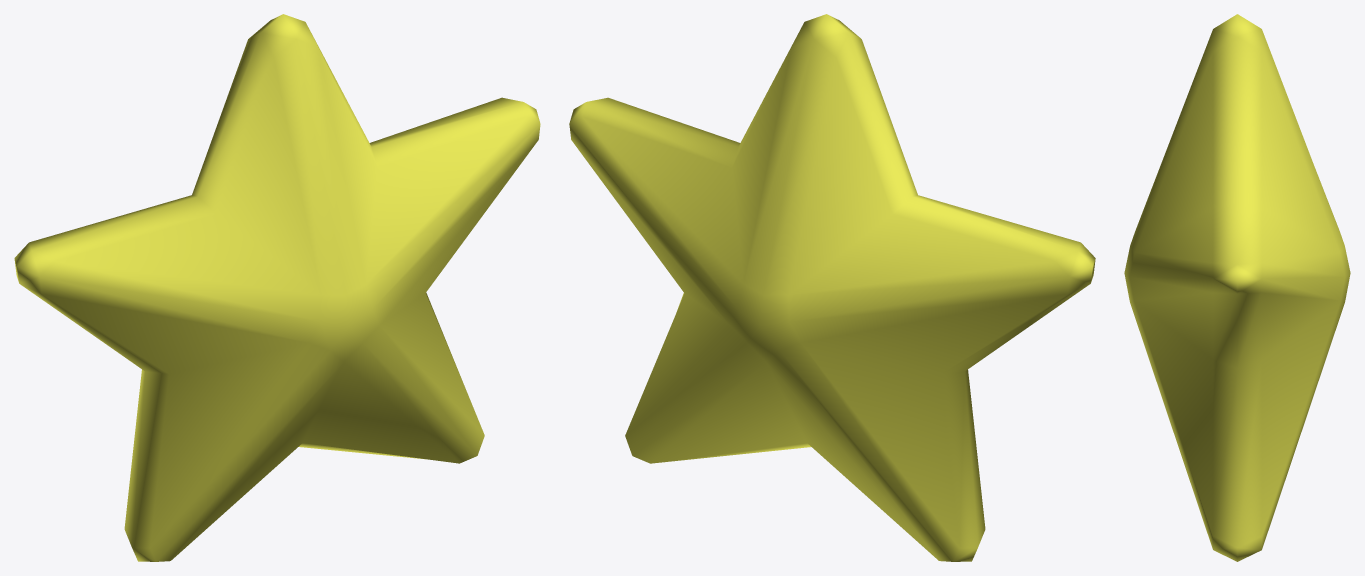
Rendered from estrella1.fbx.
The picture shows the model from 3 angles, left to right: view 1: azimuth 30°, elevation 25°; view 2: azimuth 150°, elevation 25°; view 3: azimuth 270°, elevation 25°; orthographic projection. The views are drawn at different scales.
Parts seen in each view (by area): view 1: estrella1; view 2: estrella1; view 3: estrella1.
Boxes of the visible parts, x1,y1,x2,y2 form: estrella1: [14, 14, 540, 561]; estrella1: [569, 14, 1095, 561]; estrella1: [1124, 14, 1350, 561].
Bounding box in the file's own units: 4.76 × 4.52 × 1.9.
